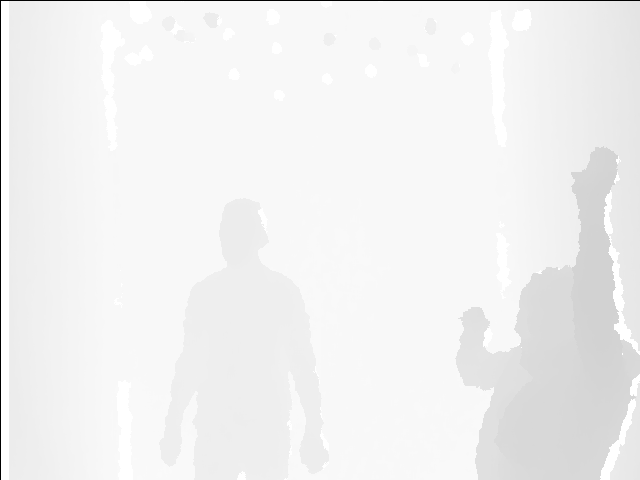hand: (580, 149, 620, 204)
